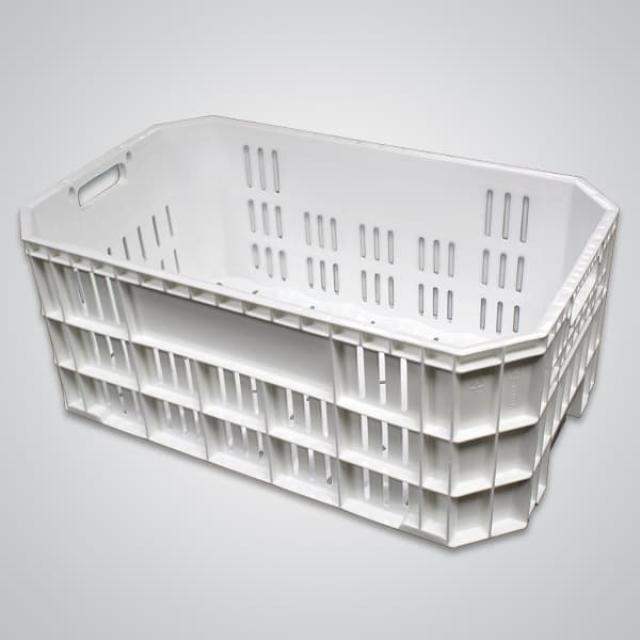basket: (0, 90, 629, 567)
